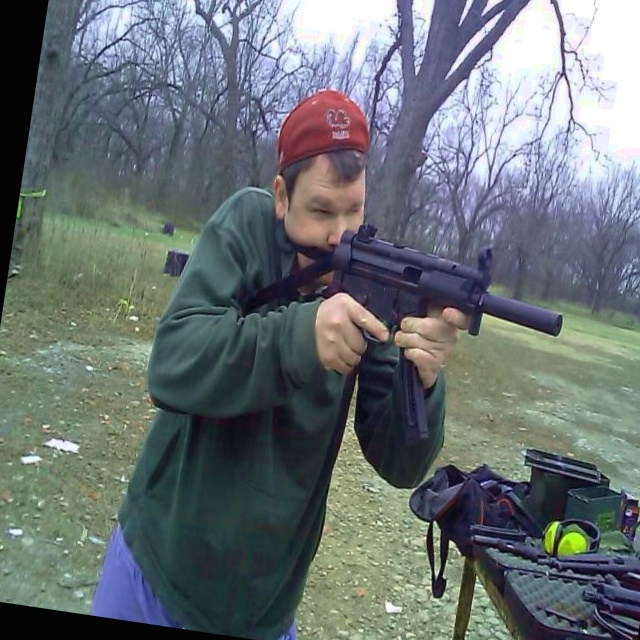gun: (240, 201, 586, 422)
